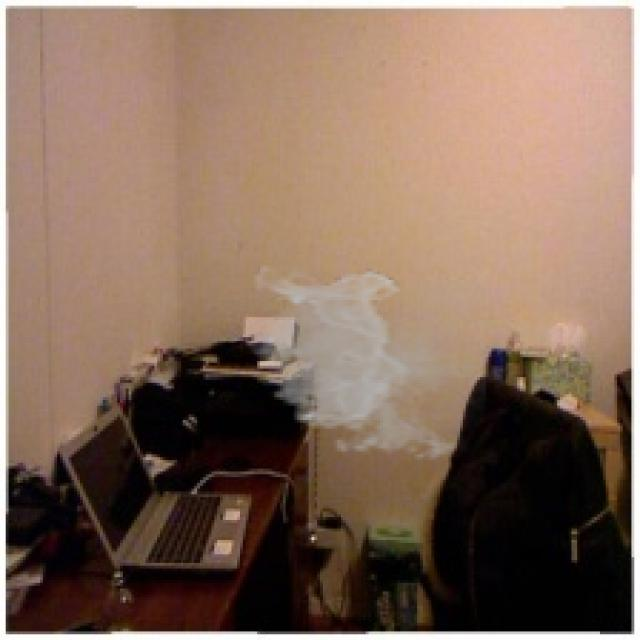smoke: (245, 266, 486, 466)
